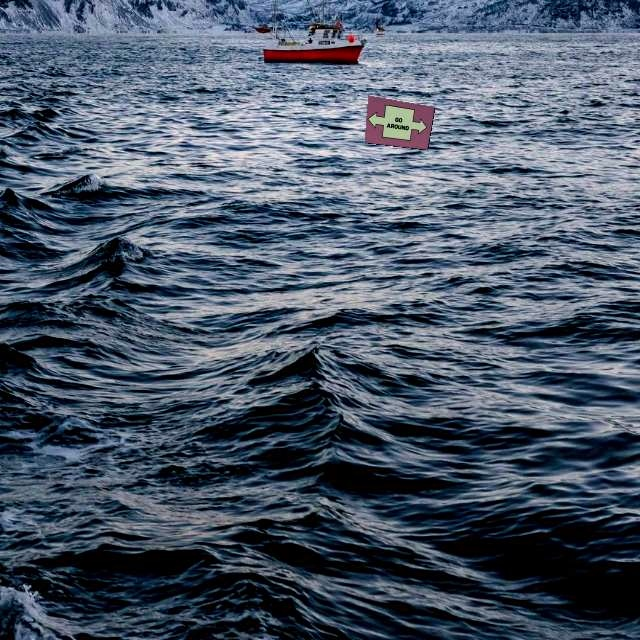GO_AROUND: (365, 102, 430, 143)
